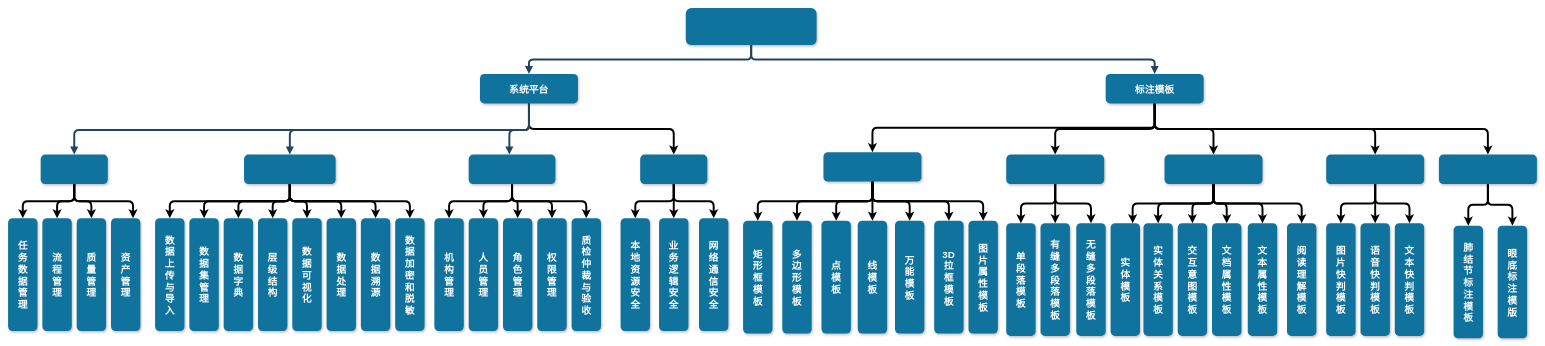
Some shapes in this 1545 by 346 pixel diagram are drawn without their labels. The centre of each missing label's shape, as x and y in pixels:
任务管理: [74,169]
医疗影像类模板: [1488,169]
图片模板: [872,167]
安全管理: [674,169]
快判模板: [1375,169]
数据管理: [290,169]
文本模板: [1213,169]
标注平台功能架构: [751,27]
用户和权限管理: [512,169]
语音模板: [1055,169]
